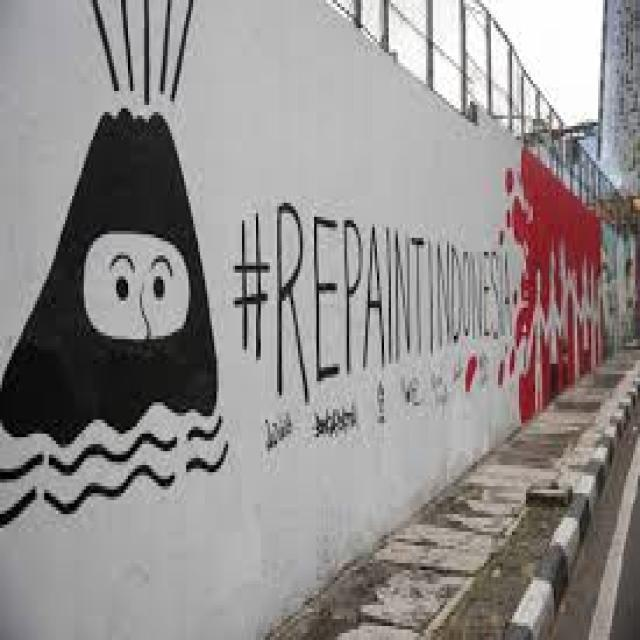-: (0, 0, 231, 525), (238, 201, 516, 453), (504, 142, 608, 424)
